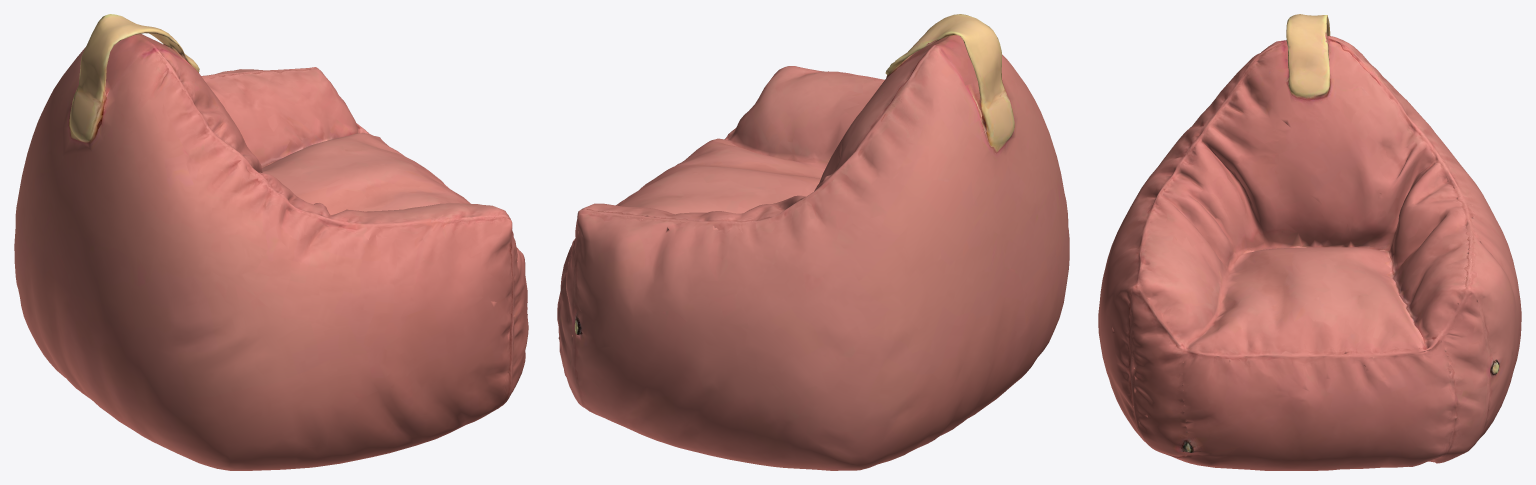
File: room-beanbag.glb
The picture shows the model from 3 angles, left to right: view 1: azimuth 30°, elevation 25°; view 2: azimuth 150°, elevation 25°; view 3: azimuth 270°, elevation 25°; orthographic projection. The views are drawn at different scales.
Visible parts, largest first — view 1: tripo_node_f3fd9cae-353a-4657-8e2b-fe256884bfa2; view 2: tripo_node_f3fd9cae-353a-4657-8e2b-fe256884bfa2; view 3: tripo_node_f3fd9cae-353a-4657-8e2b-fe256884bfa2.
Part boxes in pixels (x1,y1,x2,y2): tripo_node_f3fd9cae-353a-4657-8e2b-fe256884bfa2: (14,14,528,470); tripo_node_f3fd9cae-353a-4657-8e2b-fe256884bfa2: (557,14,1069,470); tripo_node_f3fd9cae-353a-4657-8e2b-fe256884bfa2: (1098,14,1521,470).
Size of the model in its own units: 0.8944 by 0.8456 by 0.9757.
1 material, 1 textured.
